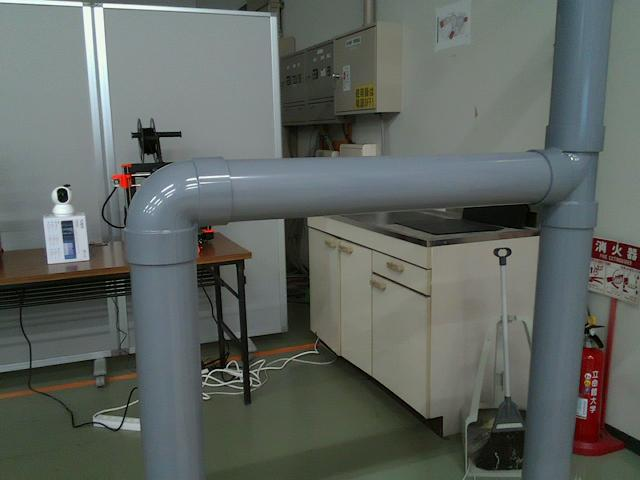bent: (125, 155, 233, 269)
junction: (526, 125, 608, 232)
